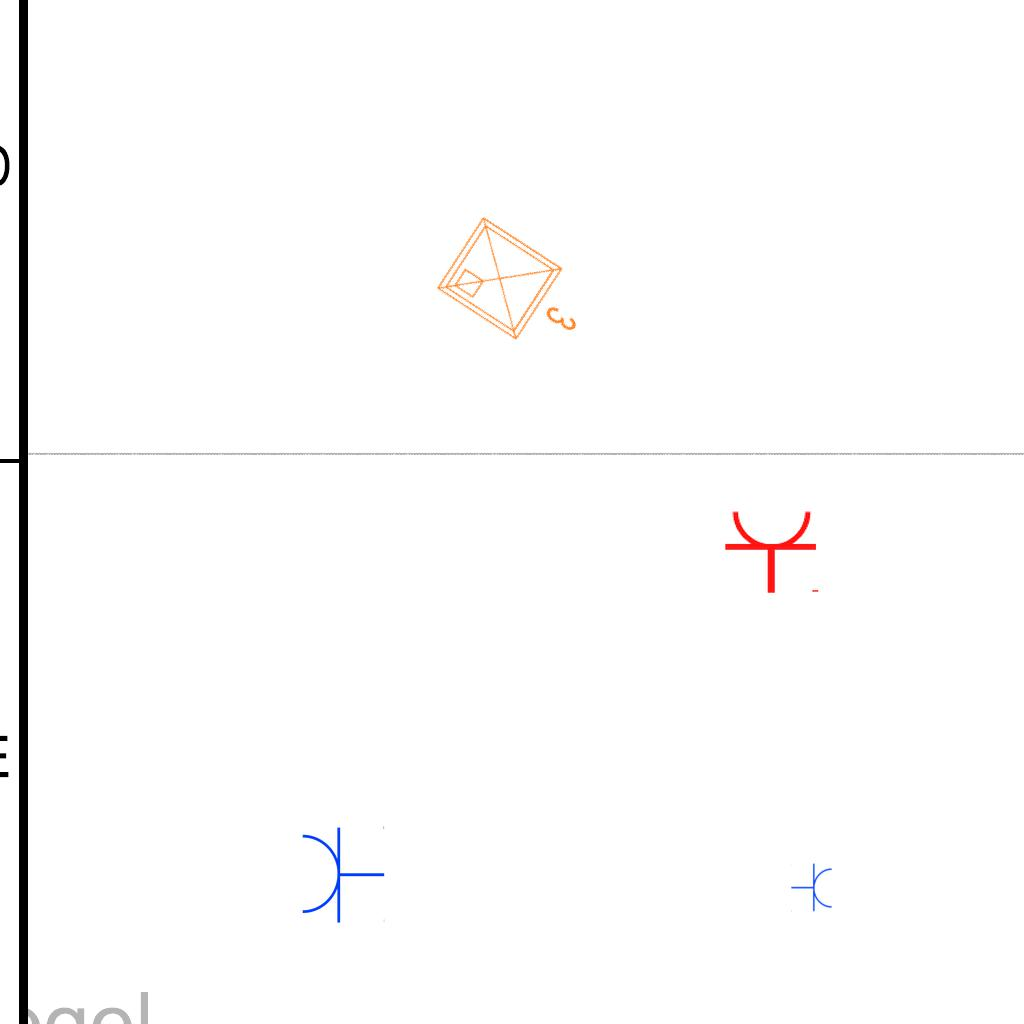Einbaudownlights_LED_Konferenzraeume: (426, 203, 610, 373)
Schukosteckdose_einfach: (723, 508, 823, 595), (298, 824, 385, 924), (791, 863, 834, 913)
